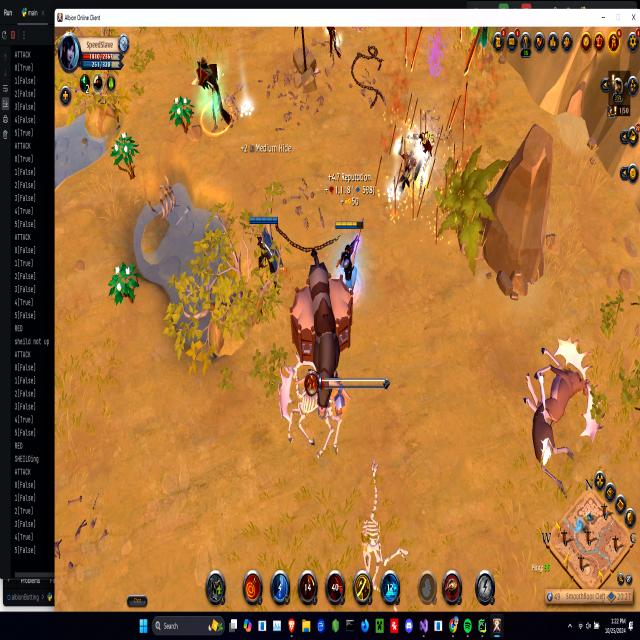hide: (108, 258, 139, 310), (169, 92, 193, 133), (112, 131, 136, 172)
mob: (519, 335, 602, 444), (524, 372, 574, 499)
ore: (189, 54, 240, 144), (395, 122, 435, 201), (321, 25, 345, 70)
player: (473, 26, 493, 60)
red: (333, 215, 365, 295), (248, 208, 281, 277)
stone: (384, 176, 403, 210), (238, 99, 255, 119)
